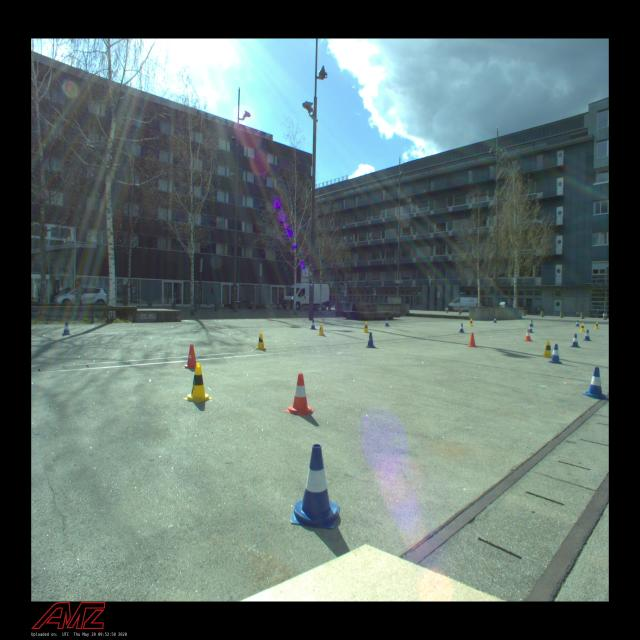blue_cone: (290, 444, 340, 530), (581, 367, 609, 399), (548, 344, 563, 364), (570, 333, 581, 348), (366, 332, 376, 348), (62, 322, 71, 335), (583, 329, 591, 342), (310, 320, 316, 330), (458, 322, 464, 332), (385, 318, 390, 327), (529, 323, 534, 332), (576, 320, 580, 326), (494, 316, 497, 322), (530, 320, 533, 326)
orange_cone: (284, 374, 315, 416), (182, 344, 197, 369), (468, 332, 477, 348), (524, 329, 532, 341)
yellow_cone: (184, 363, 212, 403), (255, 332, 267, 351), (542, 339, 552, 359), (318, 323, 325, 335), (363, 322, 369, 333), (594, 322, 600, 329), (580, 323, 584, 332), (469, 318, 473, 326)
